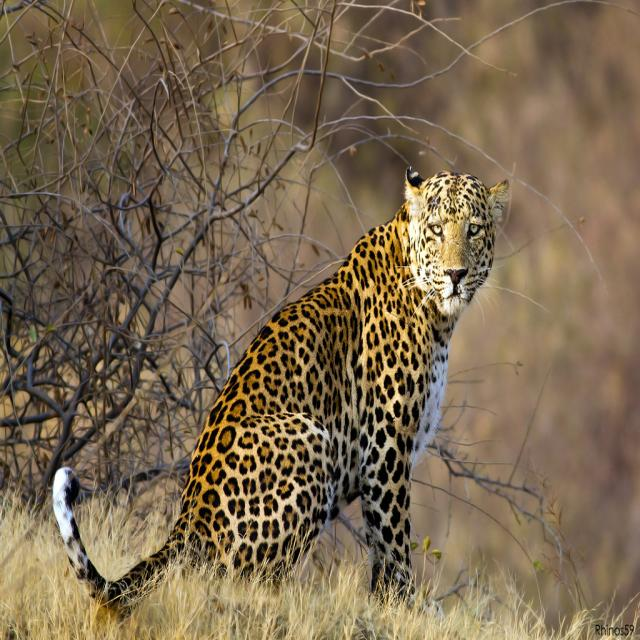Leopard: (52, 173, 511, 622)
